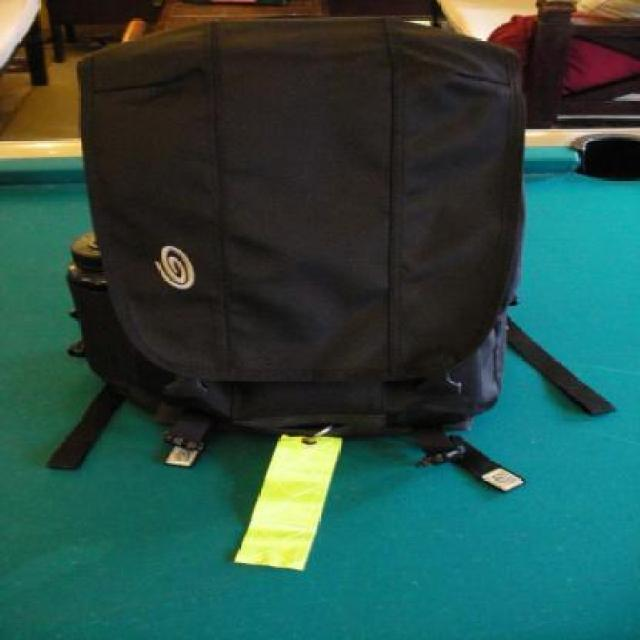backpack: (55, 11, 560, 500)
